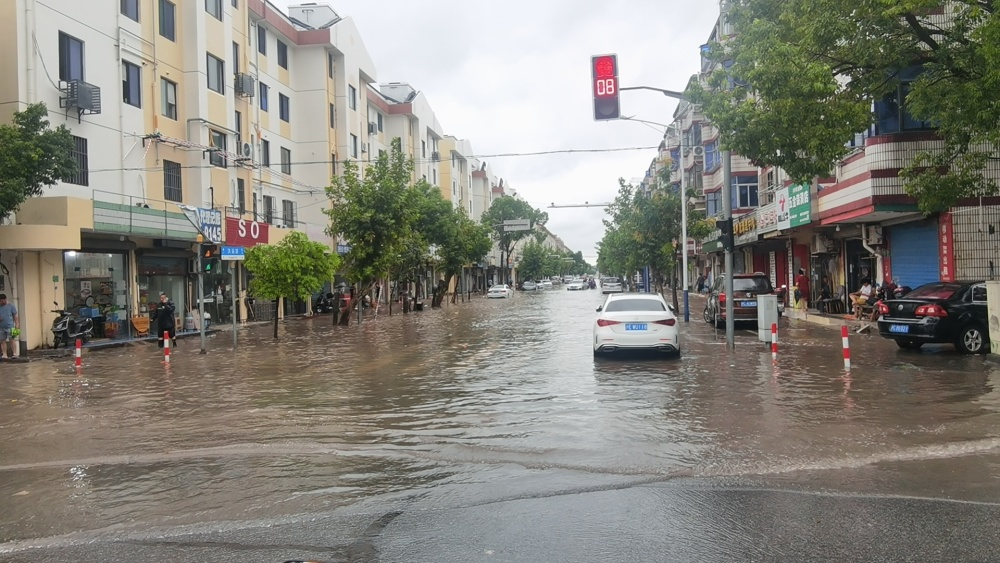puddle: (6, 318, 1000, 546)
